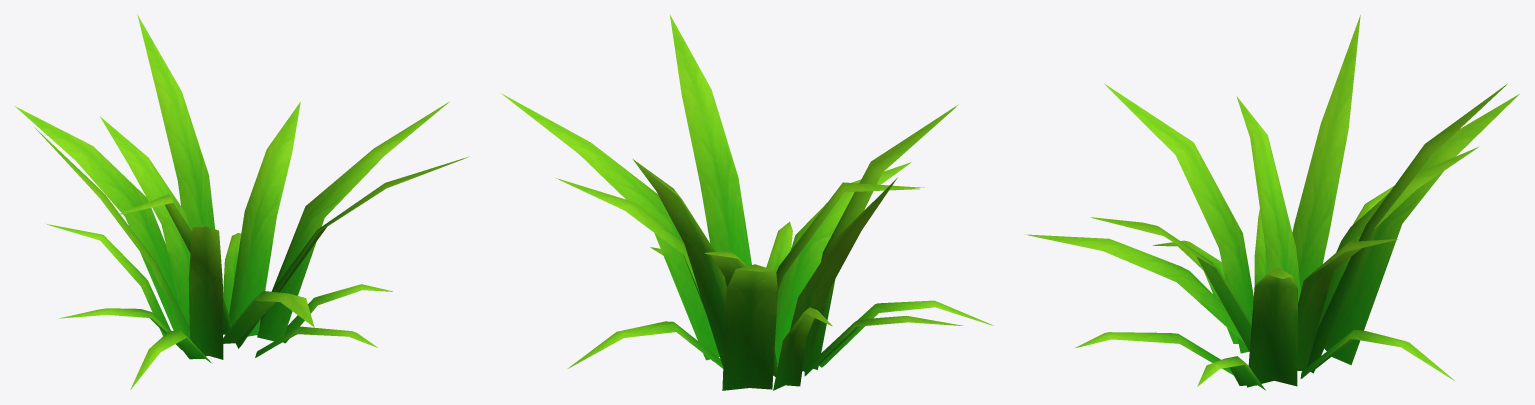
The model's file is grass004.FBX.
The picture shows the model from 3 angles, left to right: view 1: azimuth 30°, elevation 25°; view 2: azimuth 150°, elevation 25°; view 3: azimuth 270°, elevation 25°; orthographic projection. The views are drawn at different scales.
Visible parts, largest first — view 1: grass004; view 2: grass004; view 3: grass004.
Boxes of the visible parts, x1,y1,x2,y2 form: grass004: [15, 14, 468, 389]; grass004: [501, 15, 993, 390]; grass004: [1025, 15, 1519, 390].
Bounding box in the file's own units: 2.82 × 1.7 × 2.65.
